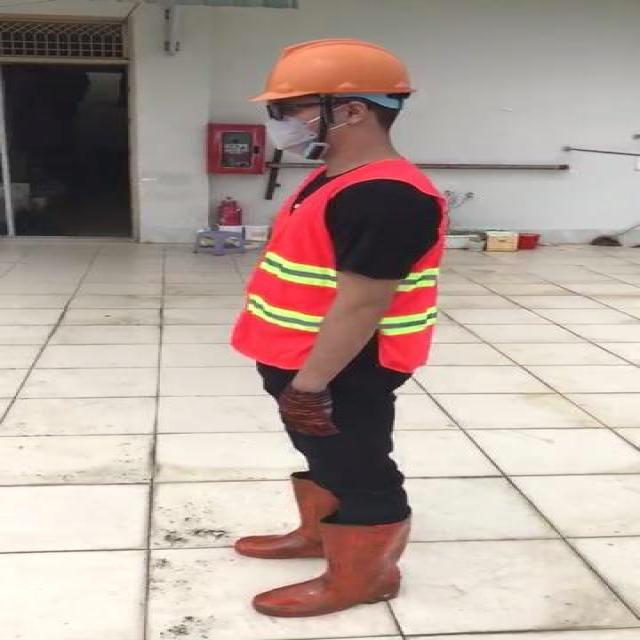boots: (249, 510, 412, 617), (233, 478, 339, 560)
face_mask: (248, 97, 333, 158)
hand_glove: (279, 388, 341, 439)
head_helmet: (257, 34, 419, 106)
person: (194, 29, 473, 640)
vest: (233, 160, 448, 372)
